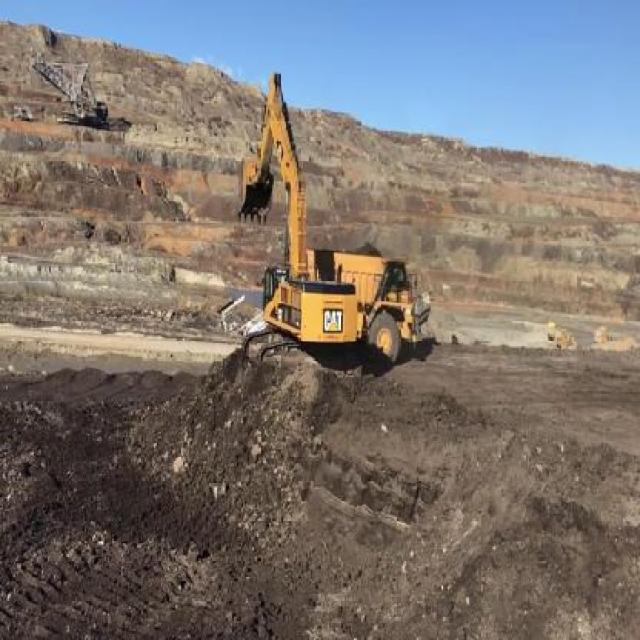dump_truck: (311, 238, 435, 364)
excavator: (236, 68, 364, 372)
